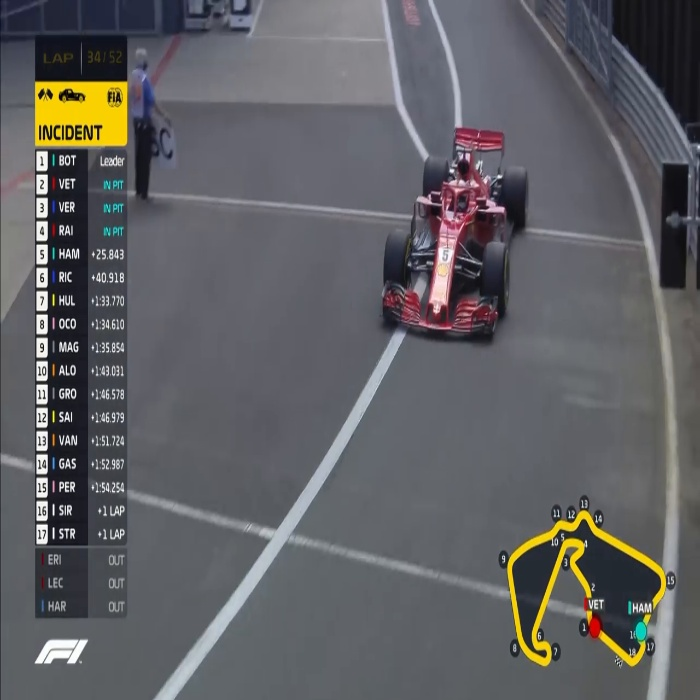f1_car: (362, 116, 549, 366)
